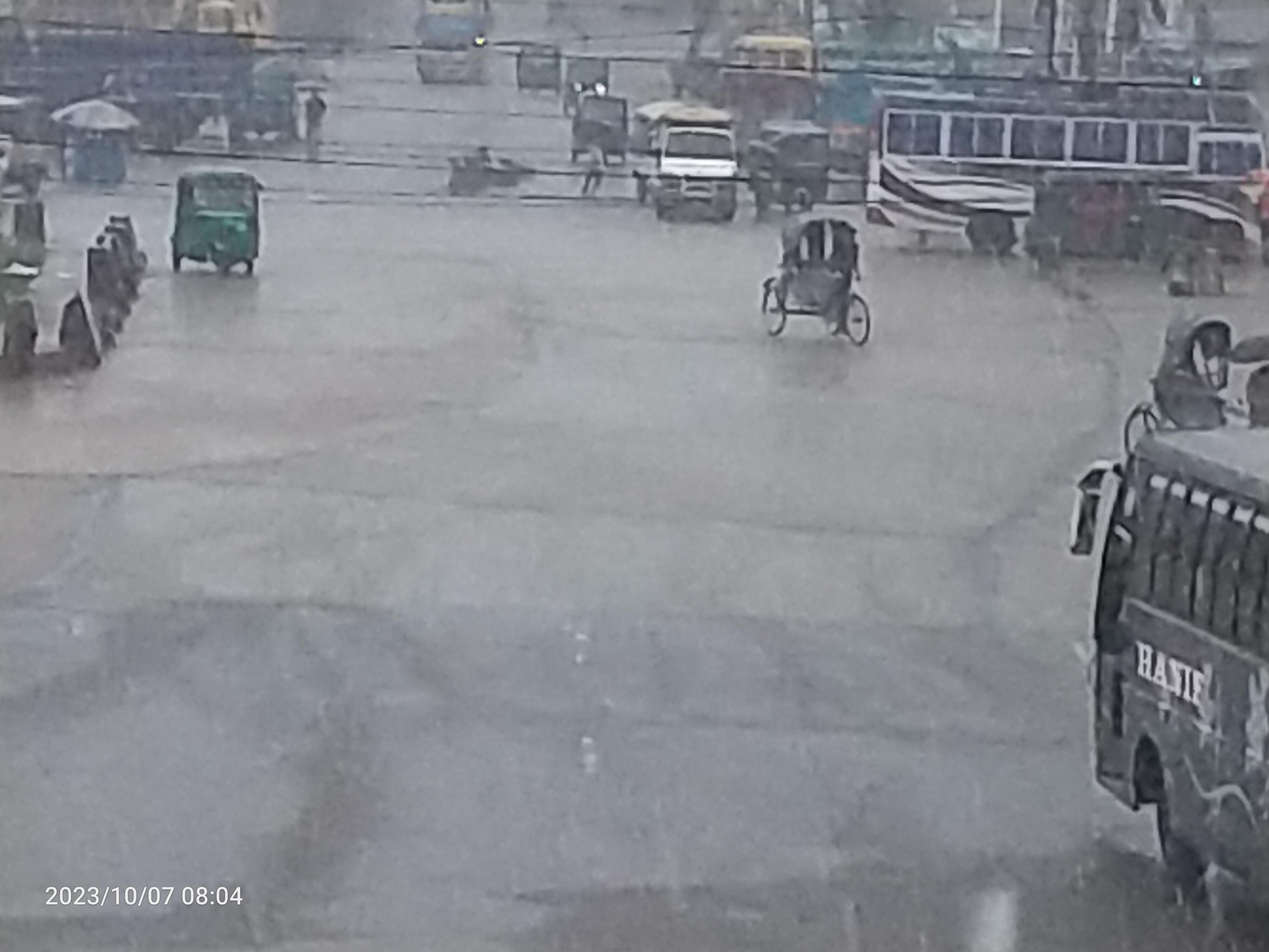Bus: (1044, 405, 1269, 917), (855, 68, 1269, 278), (387, 0, 502, 104)
Car: (745, 204, 908, 372), (619, 102, 754, 234)
